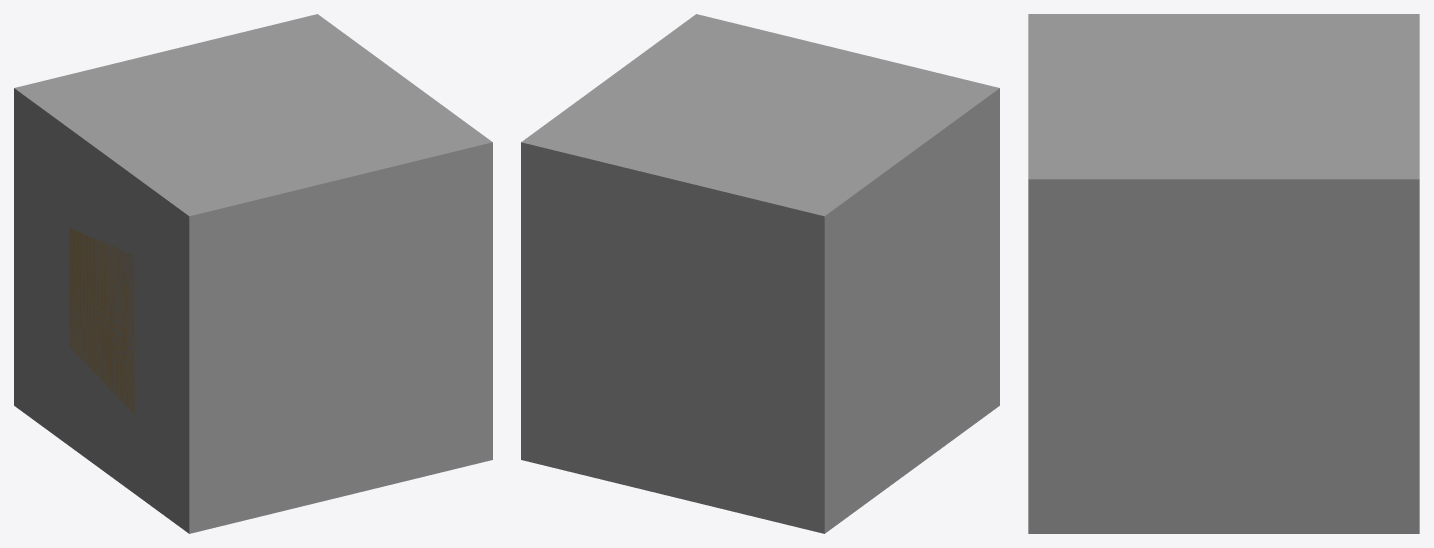
The model's file is treeresincolector.obj.
The picture shows the model from 3 angles, left to right: view 1: azimuth 30°, elevation 25°; view 2: azimuth 150°, elevation 25°; view 3: azimuth 270°, elevation 25°; orthographic projection. The views are drawn at different scales.
Parts seen in each view (by area): view 1: Minecraft_Block_Cube, Minecraft_2_Edge_Connectivity_Cube.002, main; view 2: Minecraft_Block_Cube, Minecraft_2_Edge_Connectivity_Cube.002; view 3: Minecraft_Block_Cube, Minecraft_2_Edge_Connectivity_Cube.002.
Boxes of the visible parts, x1,y1,x2,y2 form: Minecraft_Block_Cube: (15, 14, 492, 533); Minecraft_2_Edge_Connectivity_Cube.002: (14, 88, 252, 533); main: (69, 227, 134, 413); Minecraft_Block_Cube: (521, 14, 998, 533); Minecraft_2_Edge_Connectivity_Cube.002: (760, 88, 999, 533); Minecraft_Block_Cube: (1028, 14, 1419, 533); Minecraft_2_Edge_Connectivity_Cube.002: (1029, 14, 1418, 96).
Bounding box in the file's own units: 1 × 1 × 1.
2 materials, 1 textured.
